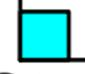cyan_zone: (22, 13, 67, 58)
